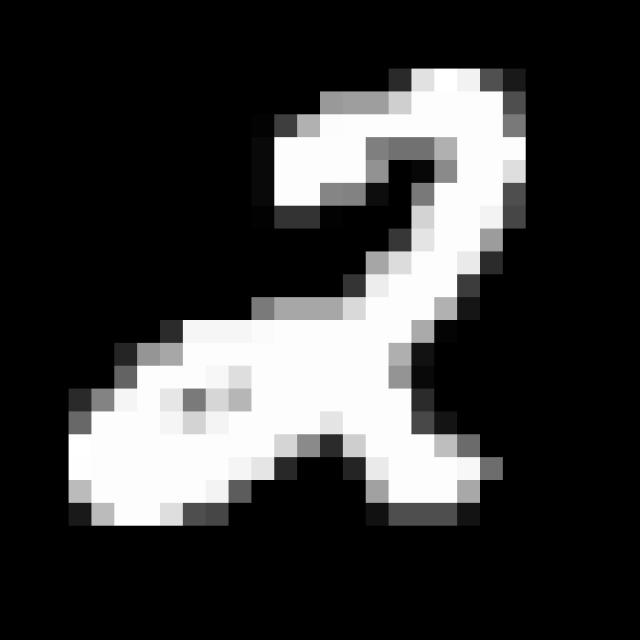two -2-: (53, 62, 541, 560)
